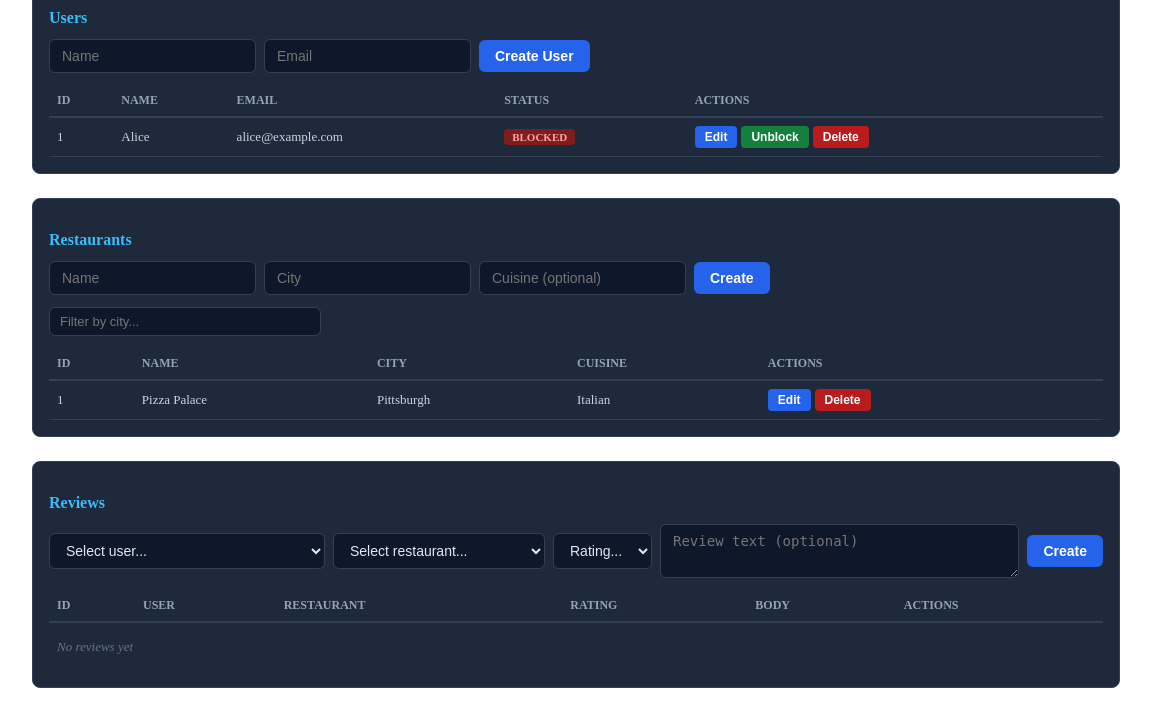
ReviewsPanel — review table › shows error when blocked user tries to create review
(page scrolled)
Select "Alice (alice@example.com) [blocked]" in the dropdown named "Select user": x=187, y=551 x1=49 y1=533 x2=325 y2=569
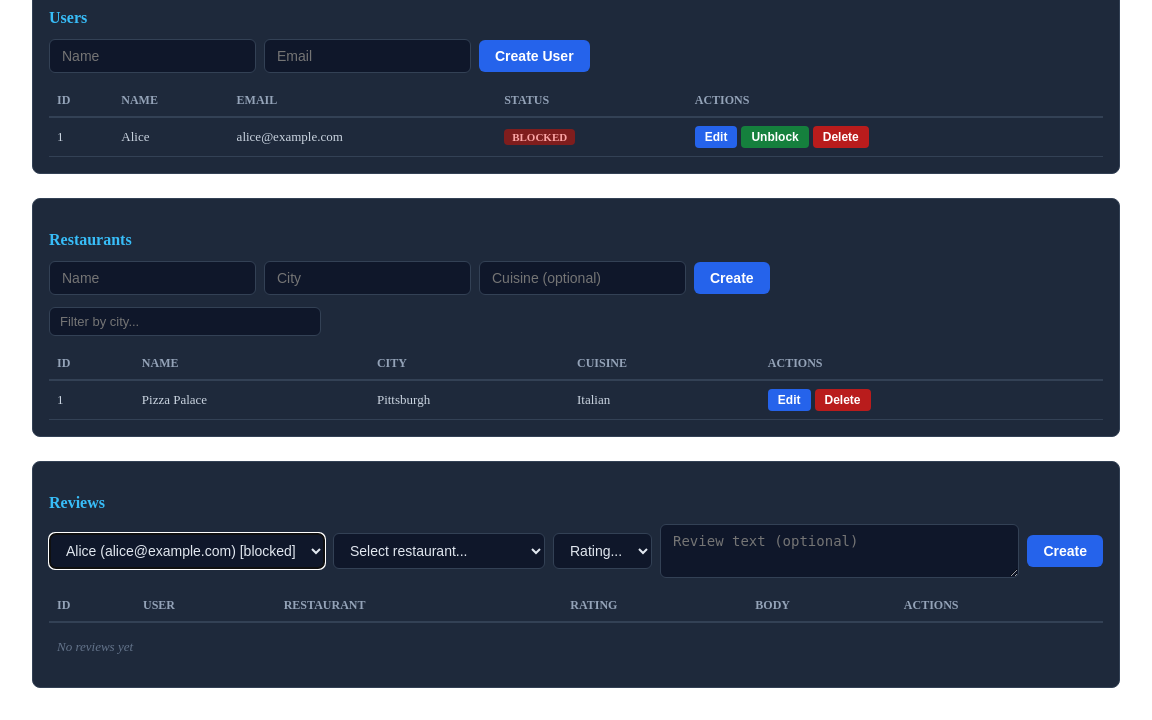
Select "Pizza Palace — Pittsburgh" in the dropdown named "Select restaurant": x=439, y=551 x1=333 y1=533 x2=545 y2=569
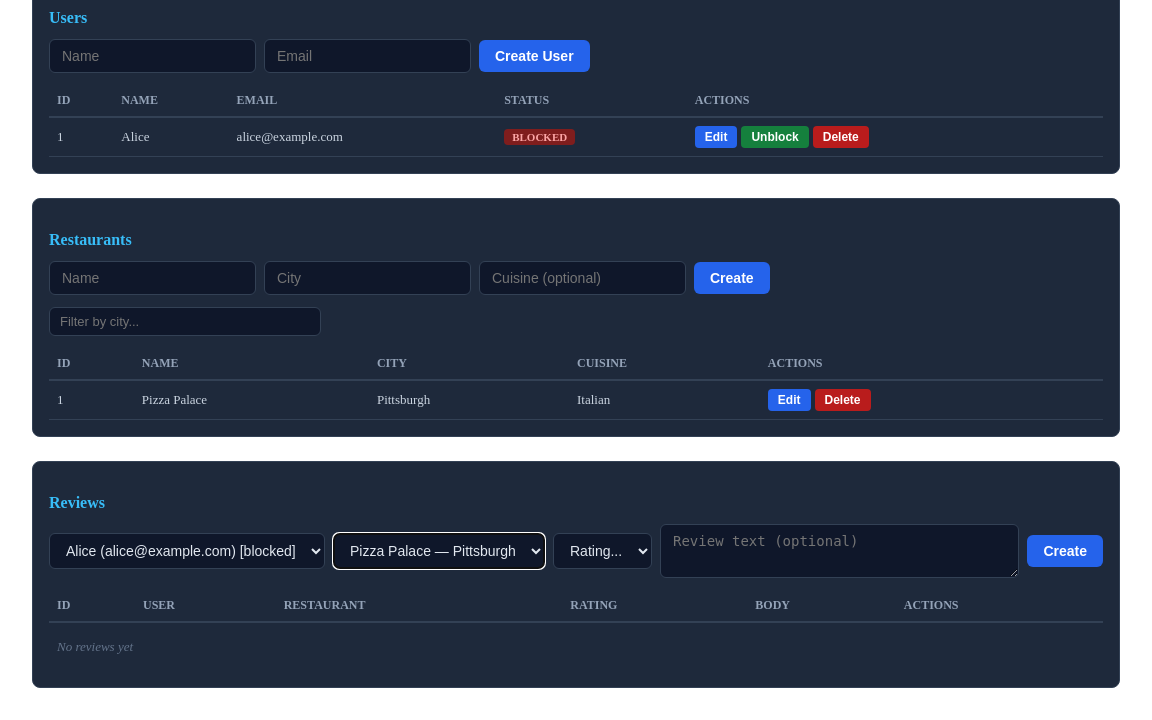
Select "5" in the dropdown named "Select rating": x=602, y=551 x1=553 y1=533 x2=652 y2=569
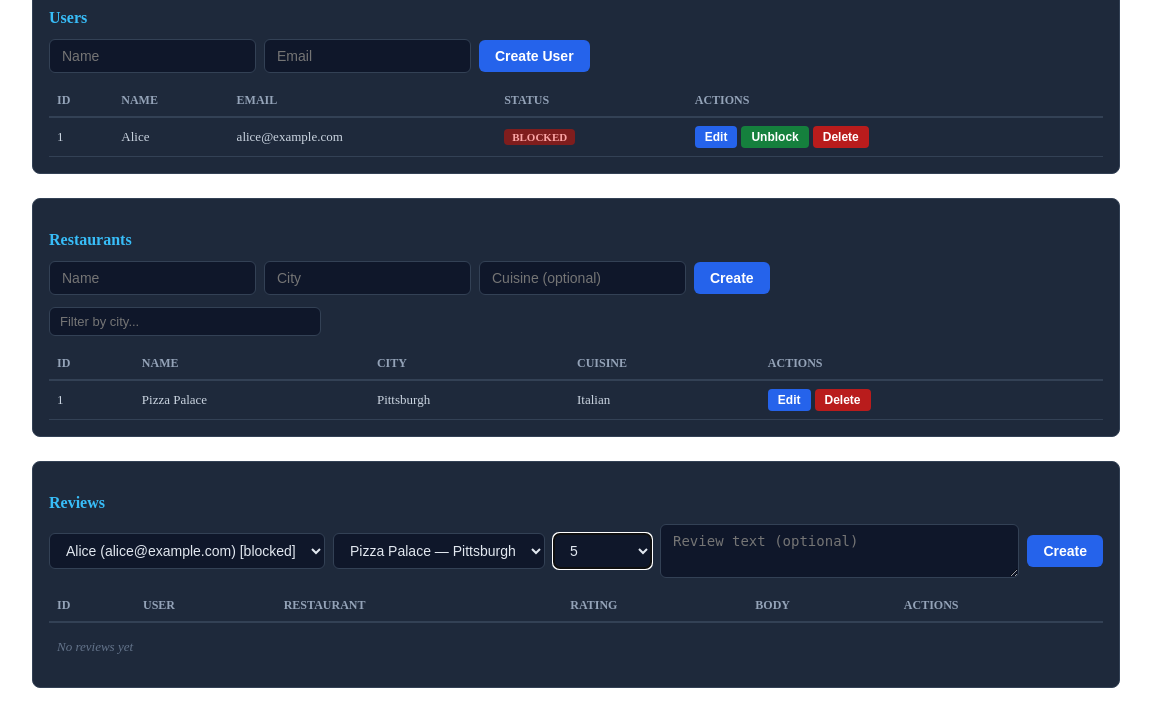
Click the 2nd button "Create": x=1065, y=551 x1=1027 y1=535 x2=1103 y2=567
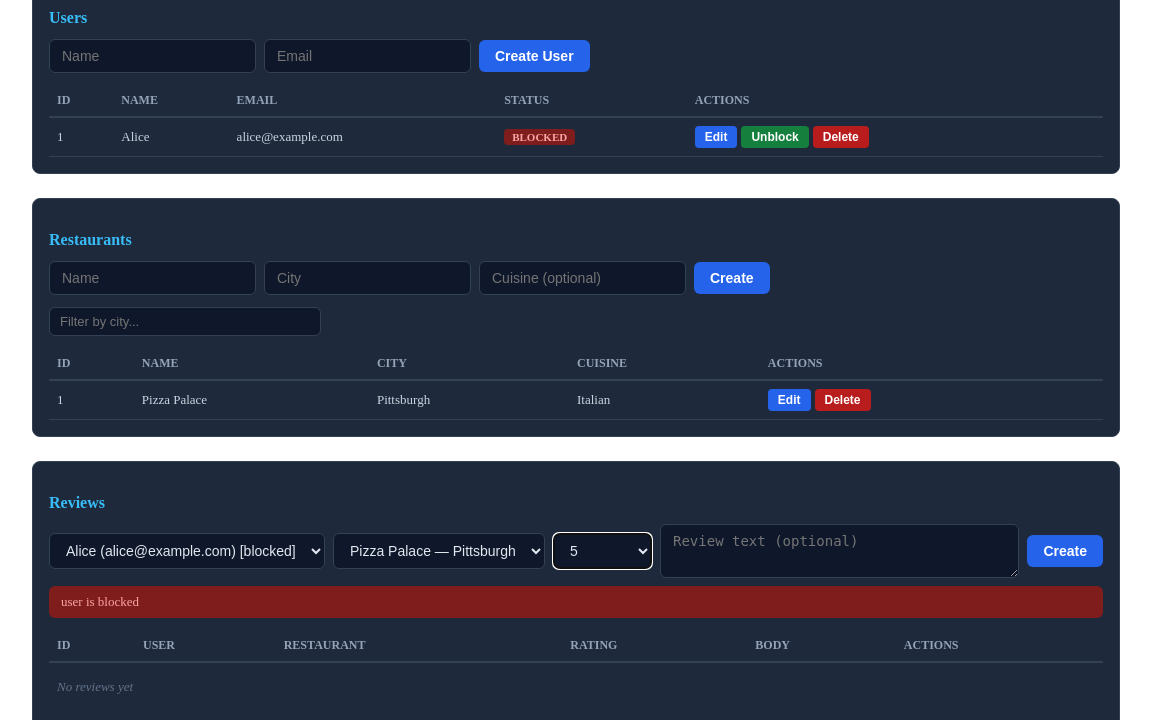
Expected: the text "user is blocked" is shown, x1=49 y1=586 x2=1103 y2=618
